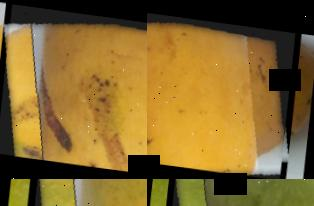PartiallyRipe: (24, 179, 147, 206)
Ripe: (147, 2, 298, 179), (0, 2, 147, 179)
Unripe: (164, 179, 314, 206)
